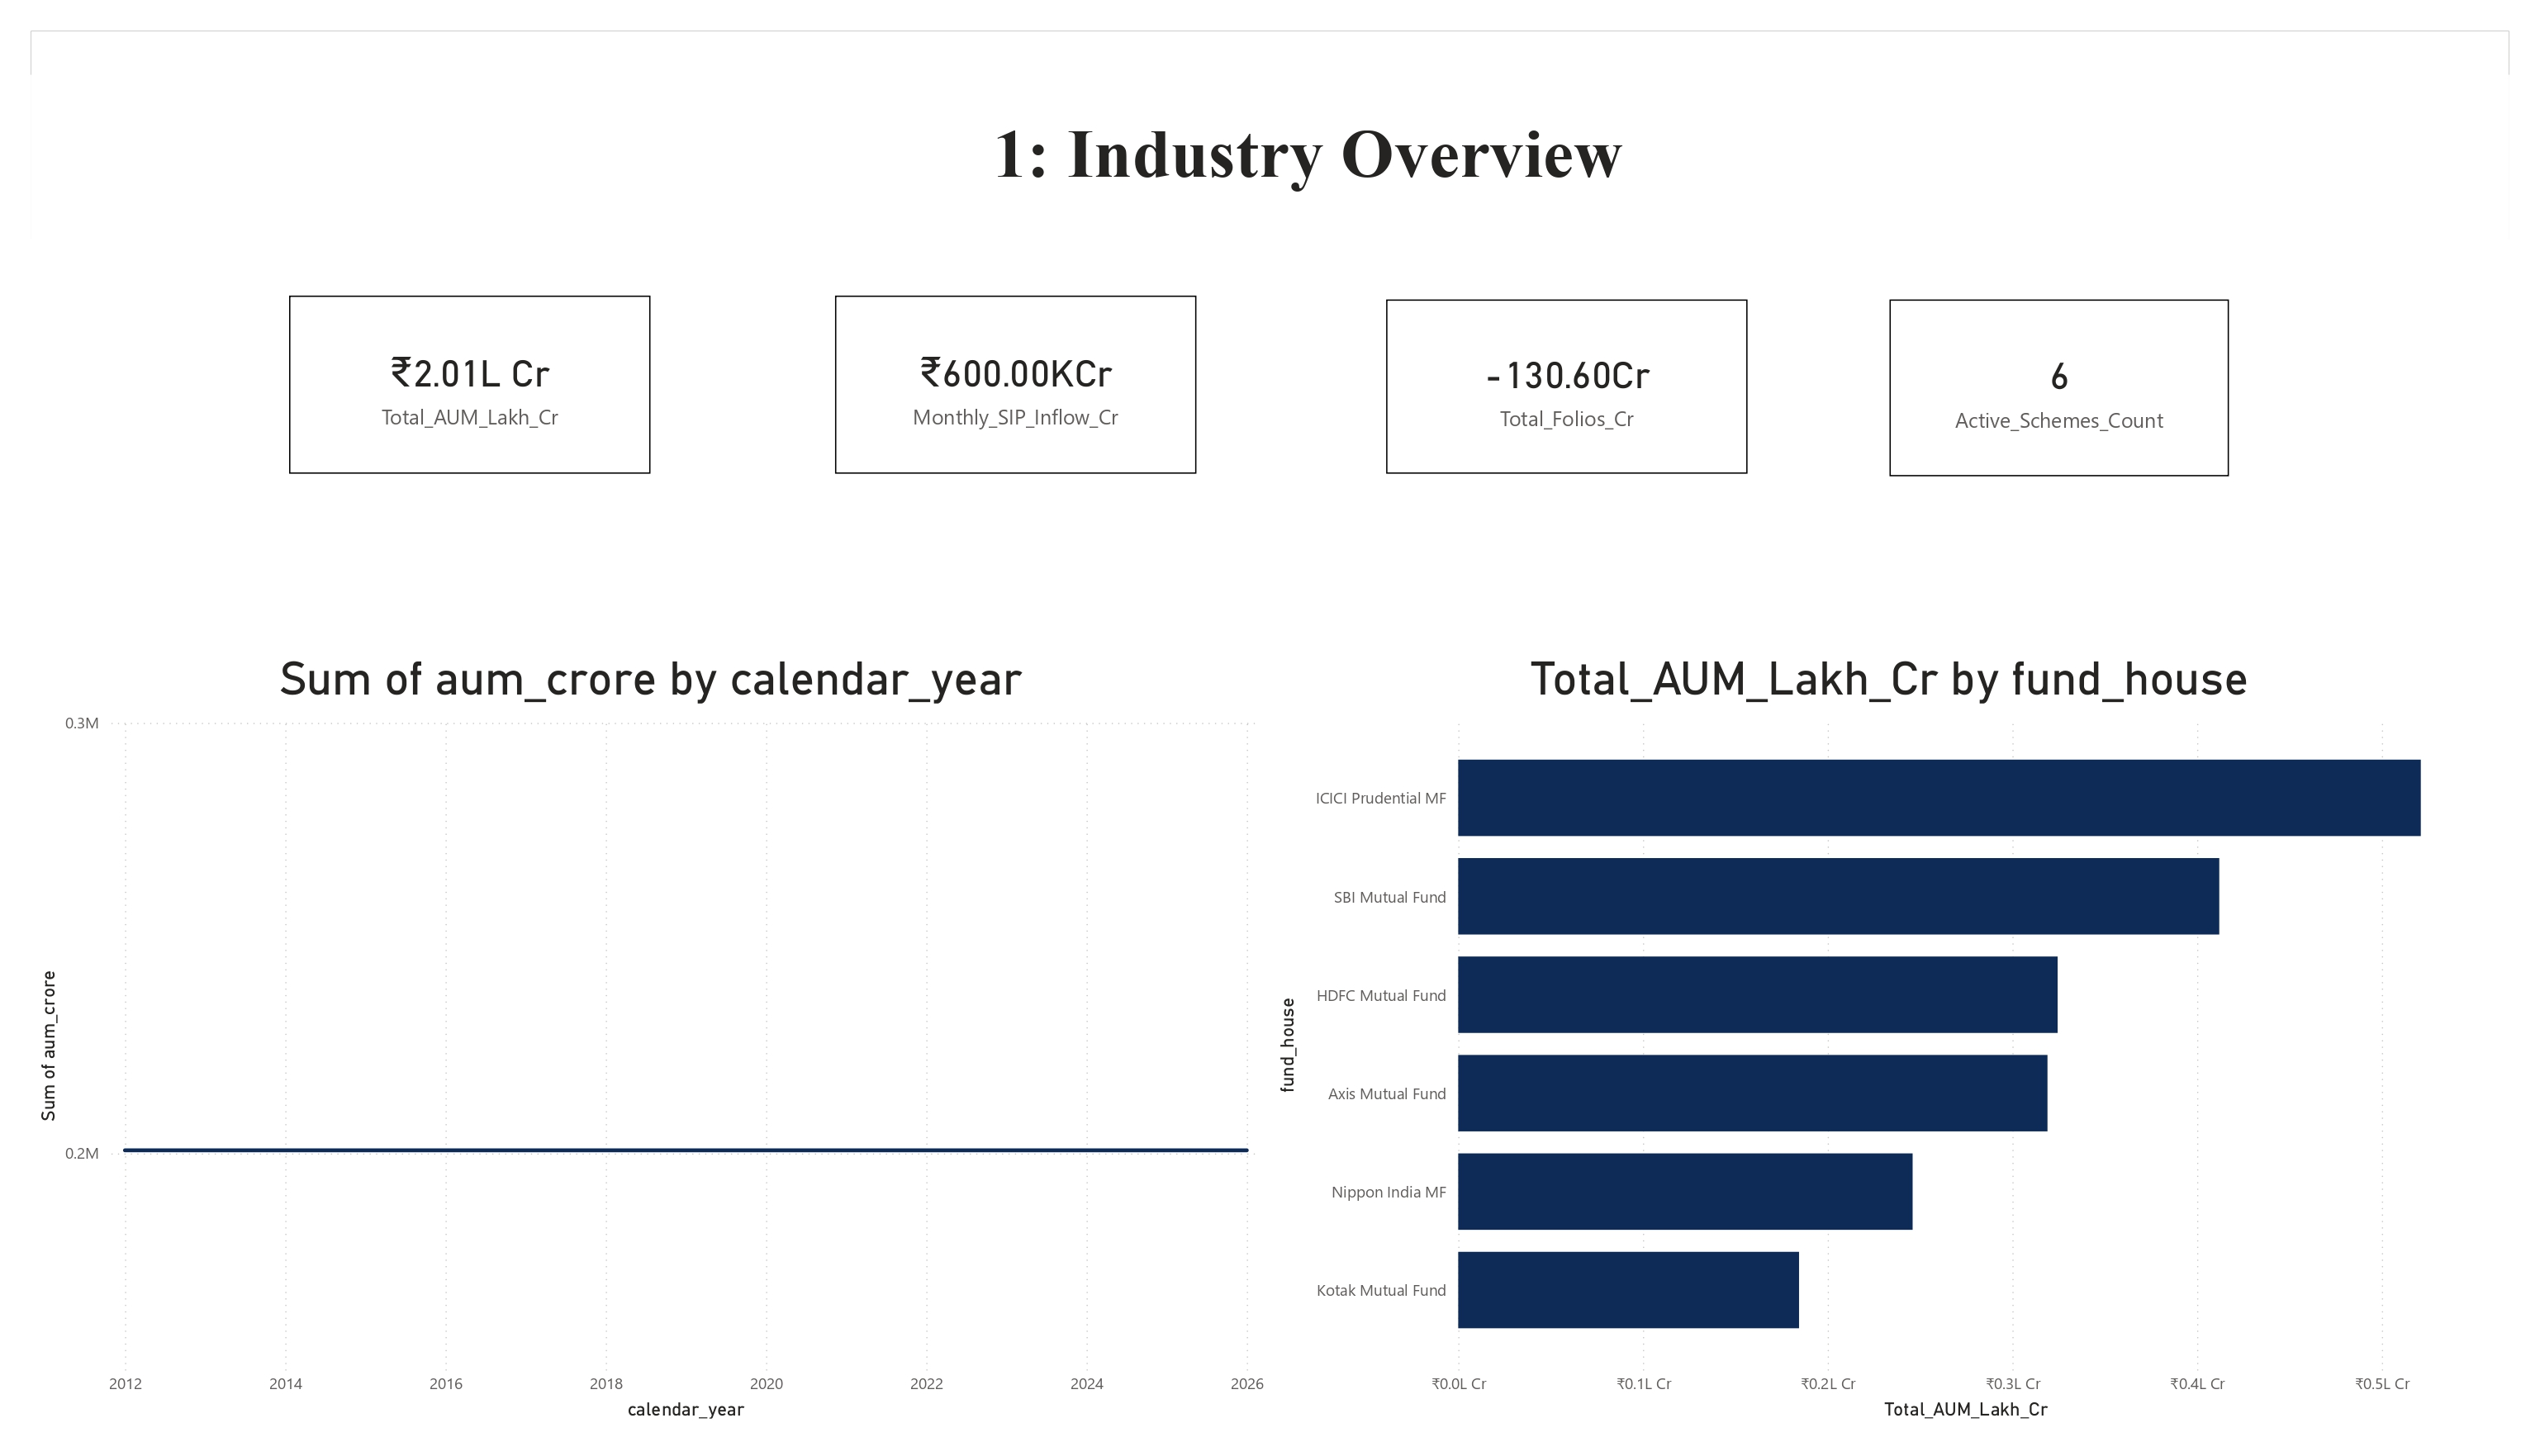

This screenshot's page, from the dashboard's own definition file:
{"tool":"powerbi","page":{"name":"Page 1: Industry Overview","canvas":[1920,1080],"ordinal":0},"visuals":[{"type":"card","fields":{"Values":["dim_fund.Total_AUM_Lakh_Cr"]},"box":[200,205,280,137.5],"z":0},{"type":"card","fields":{"Values":["dim_fund.Monthly_SIP_Inflow_Cr"]},"box":[622.5,205,280,137.5],"z":1000},{"type":"card","fields":{"Values":["dim_fund.Total_Folios_Cr"]},"box":[1050,207.5,280,135],"z":2000},{"type":"card","fields":{"Values":["dim_fund.Active_Schemes_Count"]},"box":[1440,207.5,262.5,137.5],"z":3000},{"type":"lineChart","fields":{"Category":["dim_date.calendar_year"],"Y":["Sum(fact_aum.aum_crore)"]},"box":[0,480,960,600],"z":4000},{"type":"clusteredBarChart","fields":{"Category":["dim_fund.fund_house"],"Y":["dim_fund.Total_AUM_Lakh_Cr"]},"box":[960,480,960,600],"z":5000},{"type":"textbox","box":[730,58.8,519.3,83.3],"z":6000}]}

Visuals, with their boxes on the page's 1920x1080 design canvas (x1, y1, x2, y2). These are canvas units, not pixel positions in the 2540x1456 screenshot, which may show the page scaled, cropped or inside an application window:
card - dim_fund.Total_AUM_Lakh_Cr: 200/205/480/342
card - dim_fund.Monthly_SIP_Inflow_Cr: 622/205/902/342
card - dim_fund.Total_Folios_Cr: 1050/208/1330/342
card - dim_fund.Active_Schemes_Count: 1440/208/1702/345
lineChart - dim_date.calendar_year x Sum(fact_aum.aum_crore): 0/480/960/1080
clusteredBarChart - dim_fund.fund_house x dim_fund.Total_AUM_Lakh_Cr: 960/480/1920/1080
textbox: 730/59/1249/142
